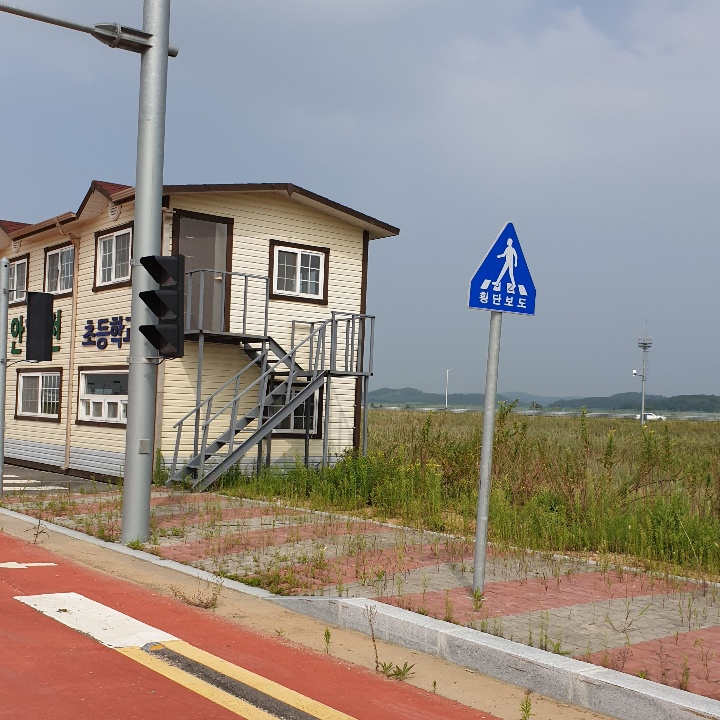cross: (488, 229, 529, 296)
